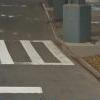Crosswalk: (2, 33, 64, 73)
